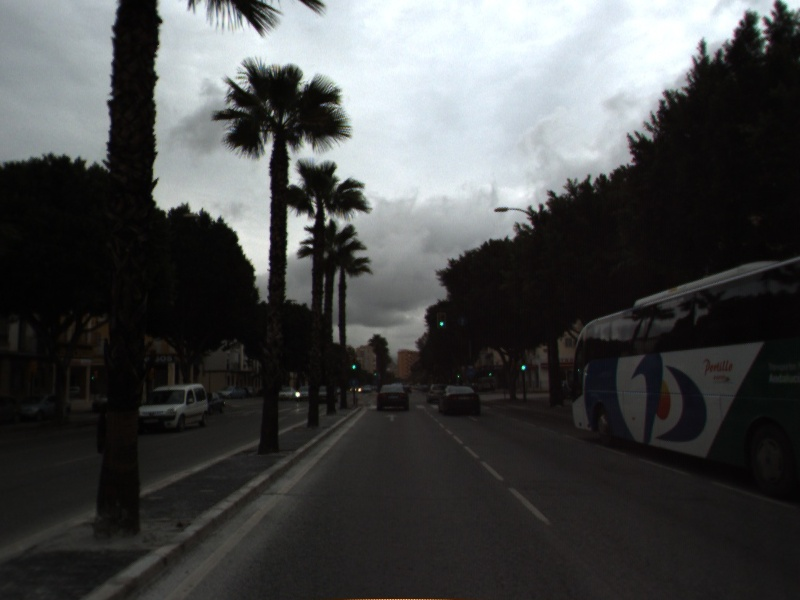STRAIGHT: (383, 412, 401, 424)
